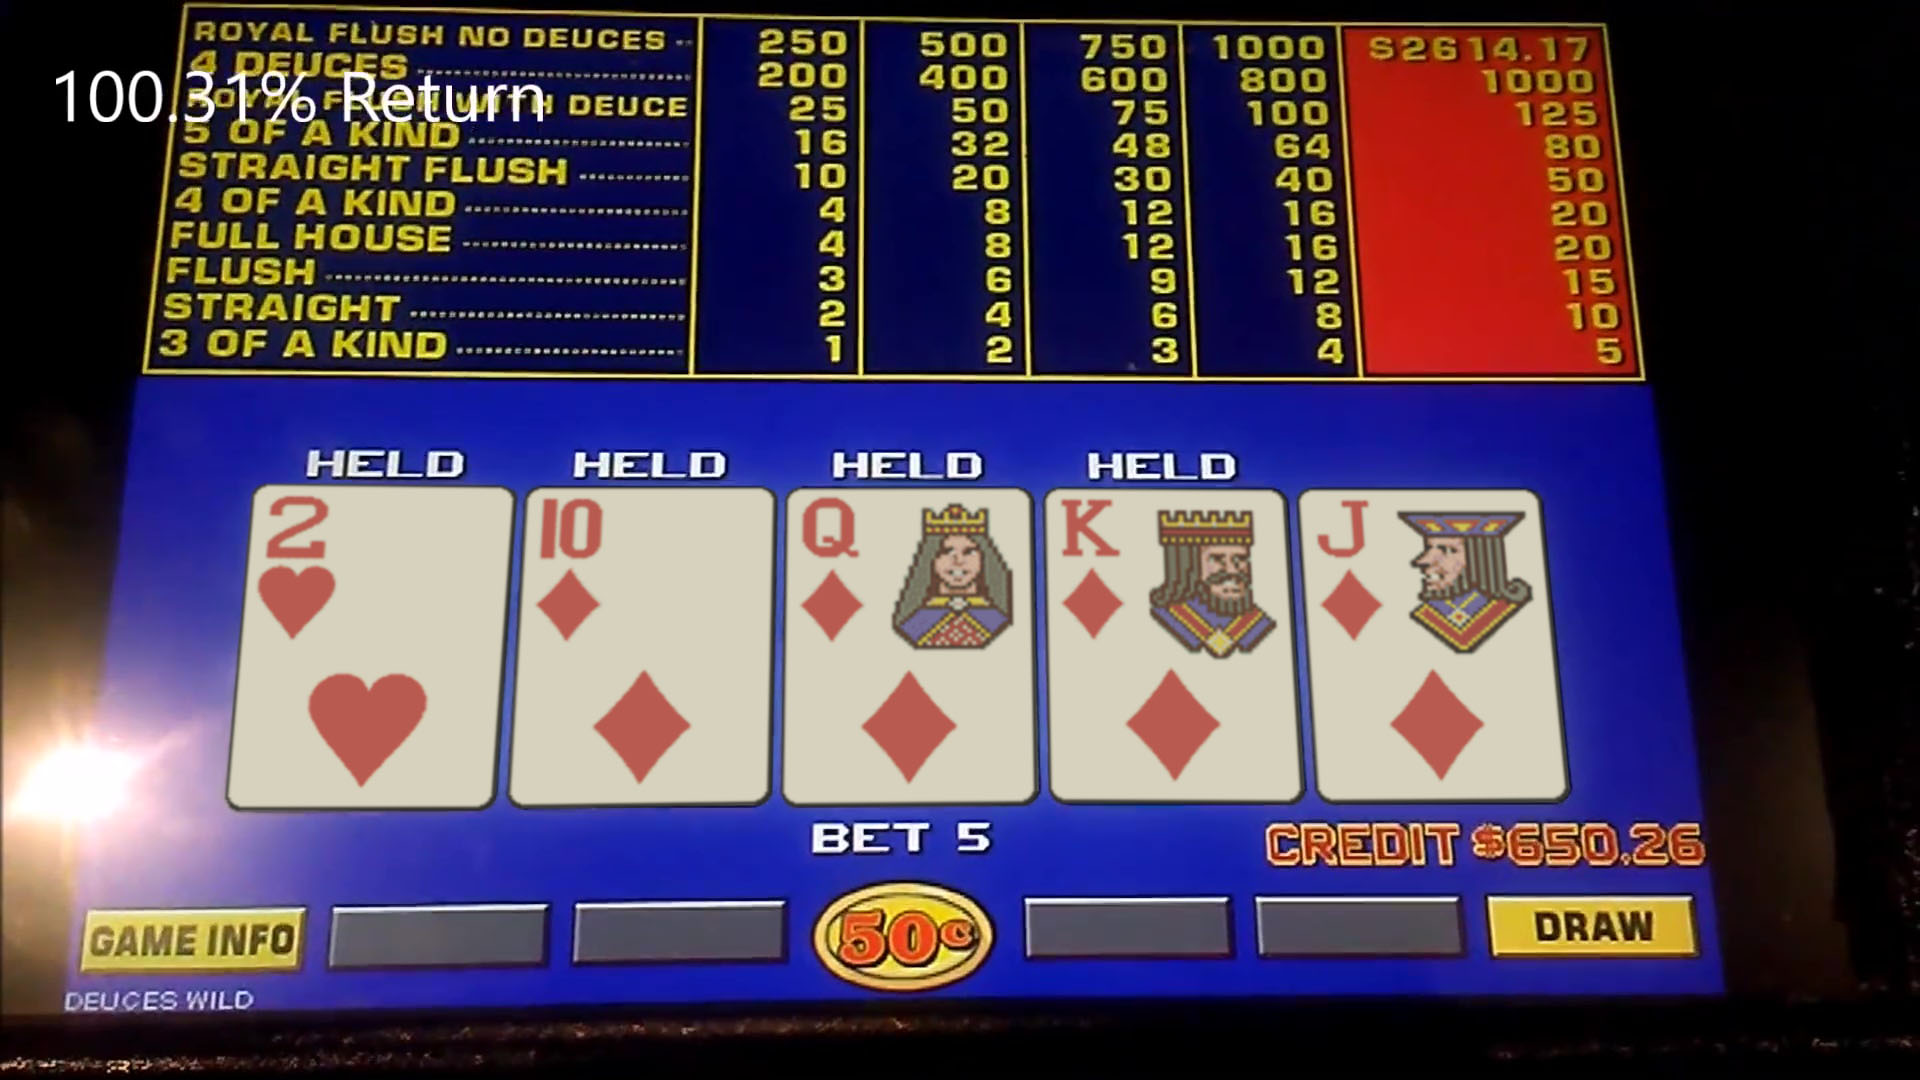DJ: (1313, 492, 1549, 802)
DK: (1048, 492, 1290, 800)
DQ: (786, 489, 1035, 803)
DT: (517, 491, 764, 802)
H2: (247, 487, 498, 808)
